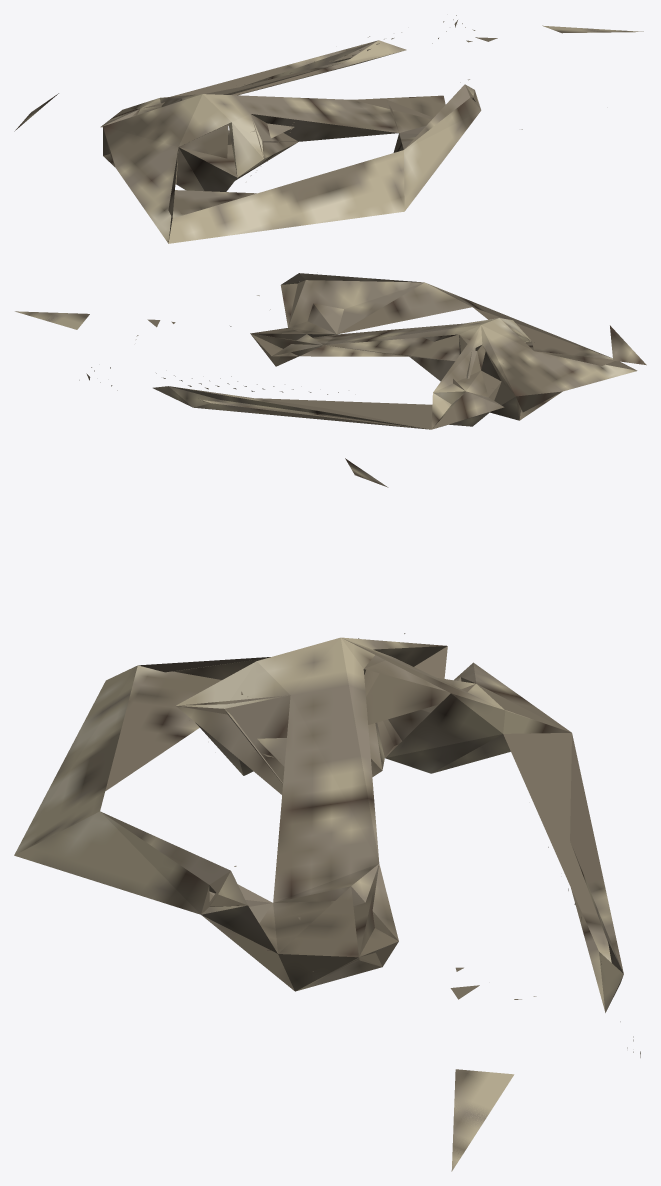
File: SM_MeshyRemains.fbx
3 renders of one model, top to bottom at view 1: azimuth 30°, elevation 25°; view 2: azimuth 150°, elevation 25°; view 3: azimuth 270°, elevation 25°, orthographic. The views are drawn at different scales.
Parts seen in each view (by area): view 1: SM_MeshyRemains; view 2: SM_MeshyRemains; view 3: SM_MeshyRemains.
Part boxes in pixels (bbox=[...]): SM_MeshyRemains: bbox=[14, 15, 643, 243]; SM_MeshyRemains: bbox=[15, 273, 646, 429]; SM_MeshyRemains: bbox=[14, 458, 640, 1171].
Size of the model in its own units: 1.36 by 0.2546 by 0.6528.
1 material, 1 textured.
